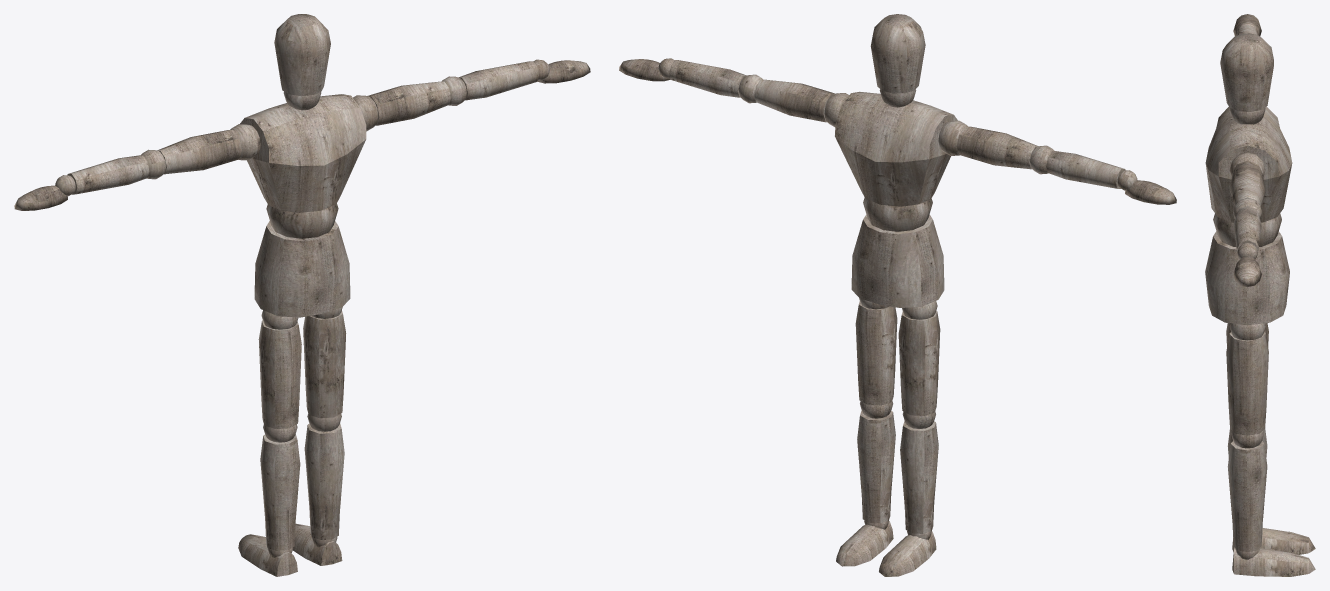
Rendered from boneMannequin.obj.
The picture shows the model from 3 angles, left to right: view 1: azimuth 30°, elevation 25°; view 2: azimuth 150°, elevation 25°; view 3: azimuth 270°, elevation 25°; orthographic projection. The views are drawn at different scales.
Visible parts, largest first — view 1: Mannequin1; view 2: Mannequin1; view 3: Mannequin1.
Boxes of the visible parts, x1,y1,x2,y2 form: Mannequin1: (14, 14, 590, 576); Mannequin1: (619, 14, 1176, 576); Mannequin1: (1205, 14, 1315, 576).
Bounding box in the file's own units: 33.68 × 30.6 × 5.87.
1 material, 1 textured.
